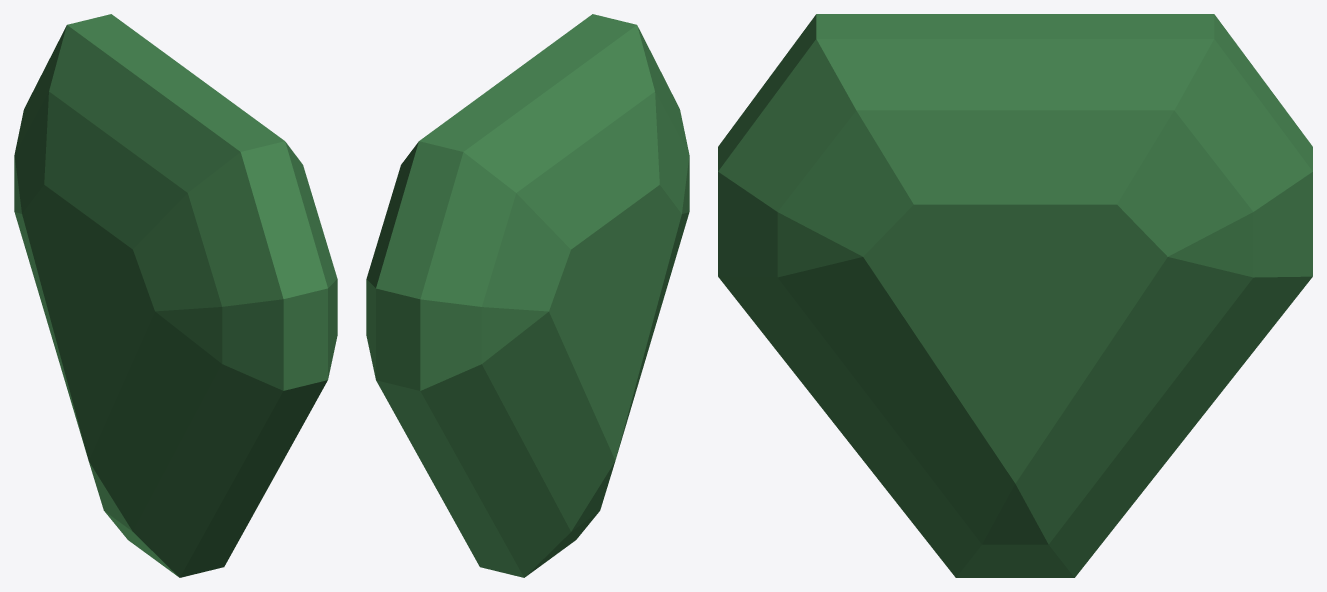
The model's file is SM_Topaz.glb.
The picture shows the model from 3 angles, left to right: view 1: azimuth 30°, elevation 25°; view 2: azimuth 150°, elevation 25°; view 3: azimuth 270°, elevation 25°; orthographic projection. The views are drawn at different scales.
Parts seen in each view (by area): view 1: SM_Topaz; view 2: SM_Topaz; view 3: SM_Topaz.
Boxes of the visible parts, bbox=[...] form: SM_Topaz: bbox=[14, 14, 337, 577]; SM_Topaz: bbox=[366, 14, 689, 577]; SM_Topaz: bbox=[718, 14, 1312, 577].
Bounding box in the file's own units: 0.07 × 0.18 × 0.18.
1 material, 1 textured.
